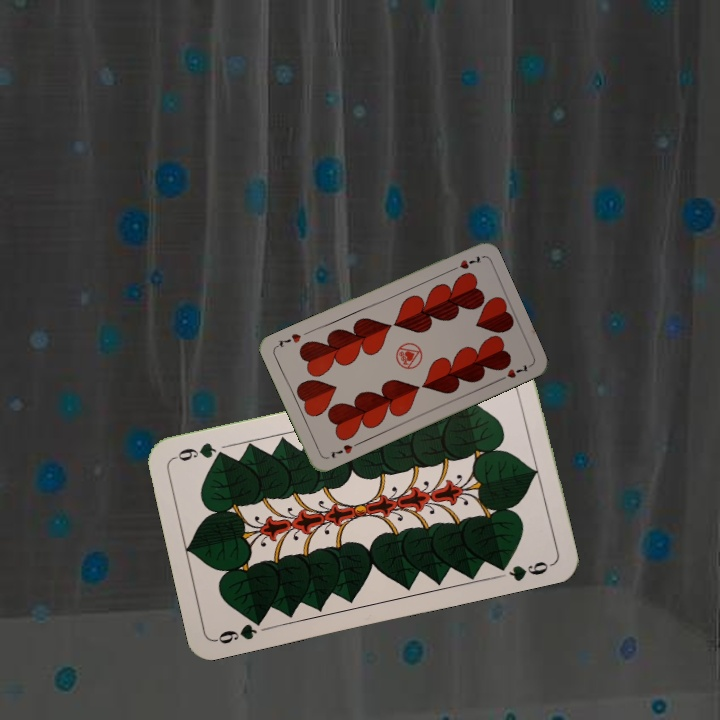G9: (212, 612, 268, 647)
H7: (446, 252, 484, 275), (326, 440, 355, 461)
